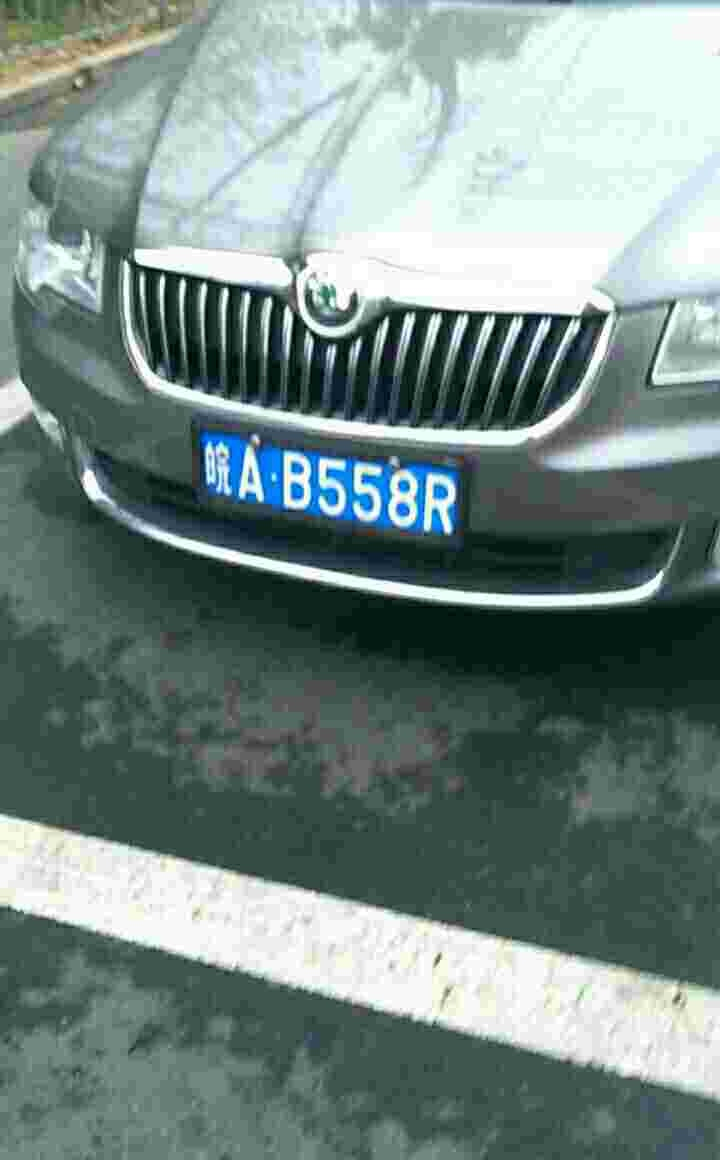license_plate: (205, 440, 443, 536)
